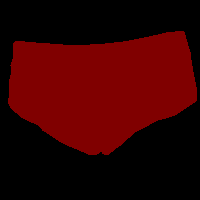mutande: (8, 30, 197, 155)
